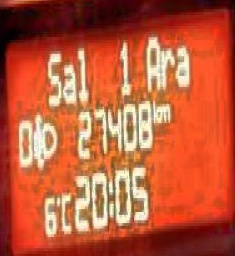0: (112, 165, 130, 226), (90, 170, 106, 225), (121, 101, 136, 148), (17, 115, 31, 165)
1: (117, 34, 130, 95)
2: (73, 173, 89, 231), (76, 106, 91, 159)
4: (106, 103, 121, 148)
5: (130, 162, 147, 223)
6: (44, 189, 55, 234)
7: (92, 104, 106, 151)
8: (136, 98, 151, 145)
X: (45, 48, 61, 109), (144, 31, 160, 89), (75, 42, 89, 101), (175, 42, 190, 87), (61, 59, 75, 103), (160, 45, 174, 86), (60, 189, 71, 234), (159, 98, 170, 123), (106, 173, 112, 217), (151, 95, 158, 120)
